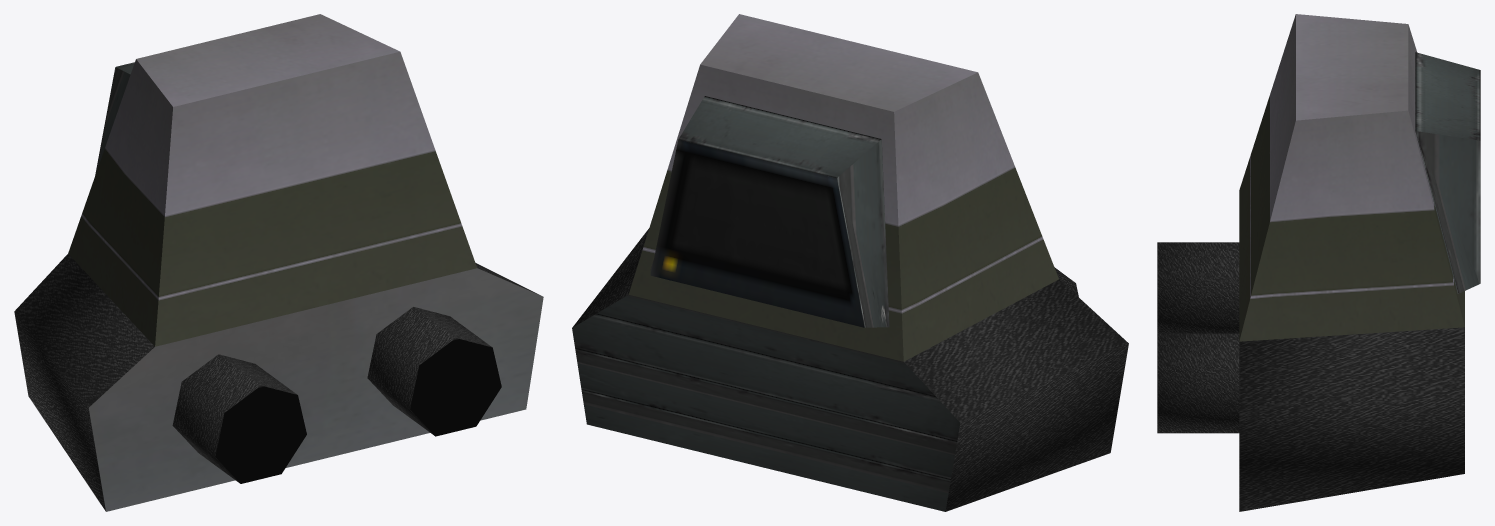
File: Binoculars_02.fbx
3 views of the same model, side by side, from view 1: azimuth 30°, elevation 25°; view 2: azimuth 150°, elevation 25°; view 3: azimuth 270°, elevation 25° (orthographic). The views are drawn at different scales.
Parts seen in each view (by area): view 1: Binoculars_02; view 2: Binoculars_02; view 3: Binoculars_02.
Boxes of the visible parts, x1,y1,x2,y2 form: Binoculars_02: [14, 14, 543, 511]; Binoculars_02: [572, 14, 1128, 511]; Binoculars_02: [1157, 14, 1480, 511].
Size of the model in its own units: 47.16 by 35.64 by 30.21.
